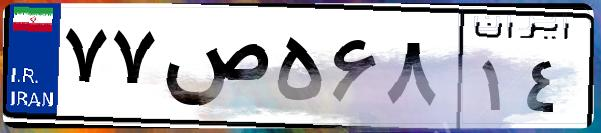1: (475, 38, 525, 113)
4: (525, 38, 570, 115)
5: (270, 28, 330, 110)
6: (330, 28, 385, 110)
7: (57, 26, 110, 100), (110, 28, 158, 98)
8: (385, 28, 445, 110)
ص: (158, 20, 270, 120)
